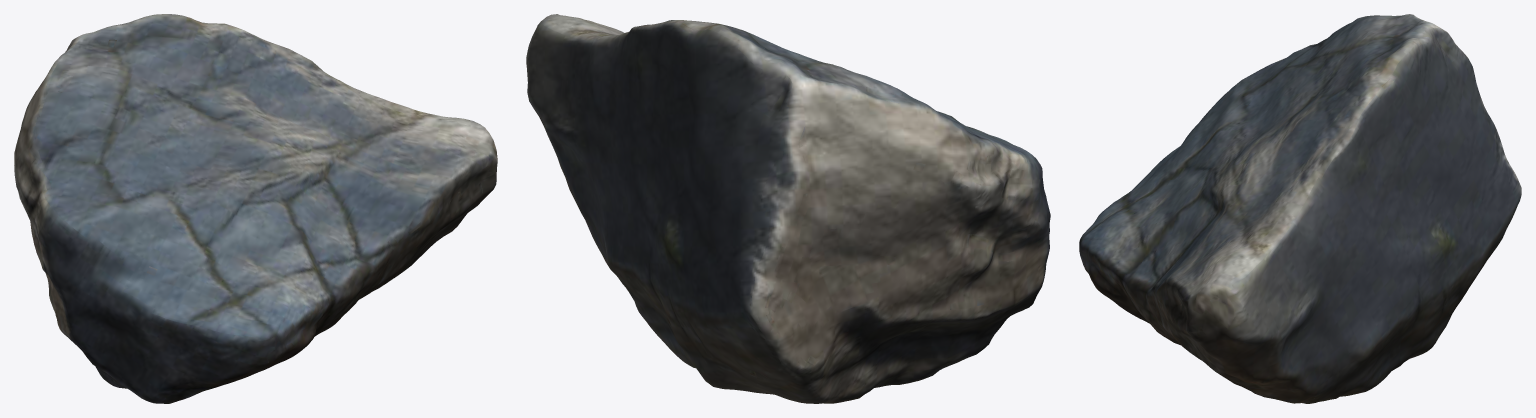
The model's file is pedra-lisa.glb.
The picture shows the model from 3 angles, left to right: view 1: azimuth 30°, elevation 25°; view 2: azimuth 150°, elevation 25°; view 3: azimuth 270°, elevation 25°; orthographic projection. The views are drawn at different scales.
Size of the model in its own units: 1.99 by 1.34 by 1.65.
1 material, 1 textured.
